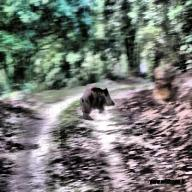boar: (73, 73, 128, 126)
